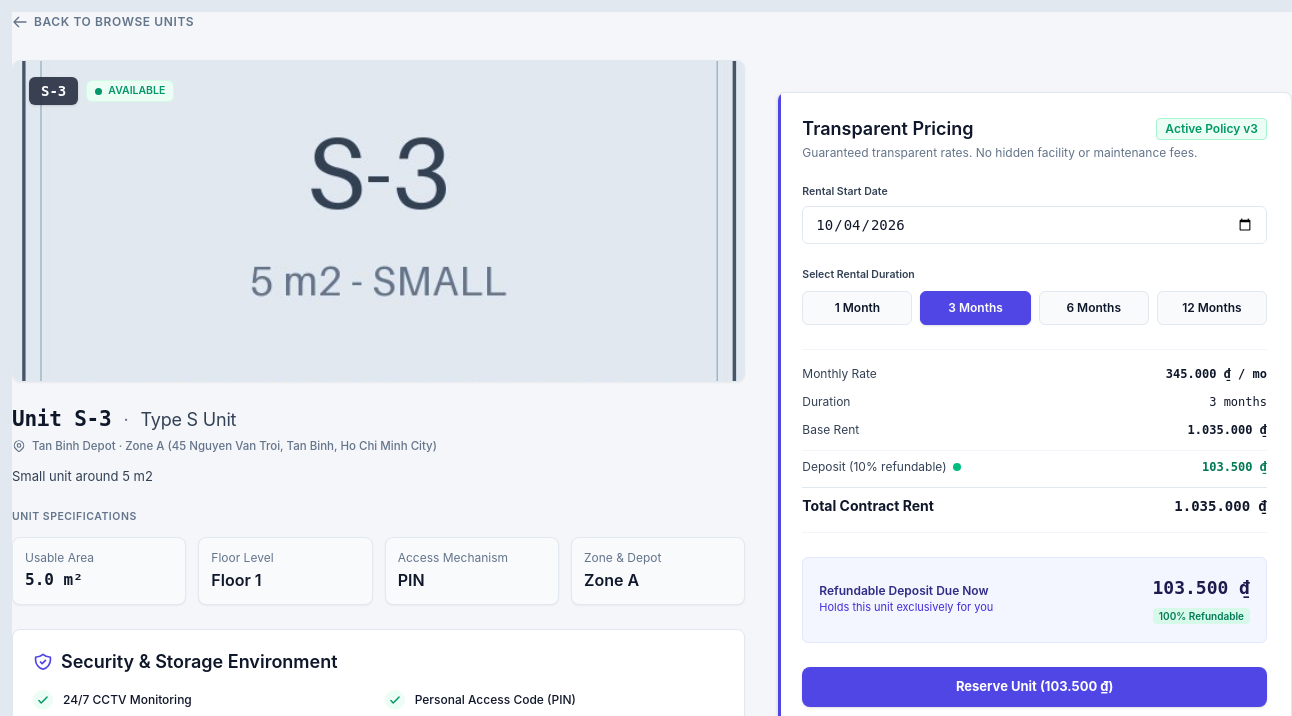
Test: Story 2.1: Unit Detail & Pricing Breakdown › UnitDetailPage Component Rendering › dynamically recalculates pricing breakdown when duration selector is changed
# Click 1 Month pill
Click the button with test id "duration-option-1". click: (857, 308)
box: x1=802 y1=291 x2=912 y2=325
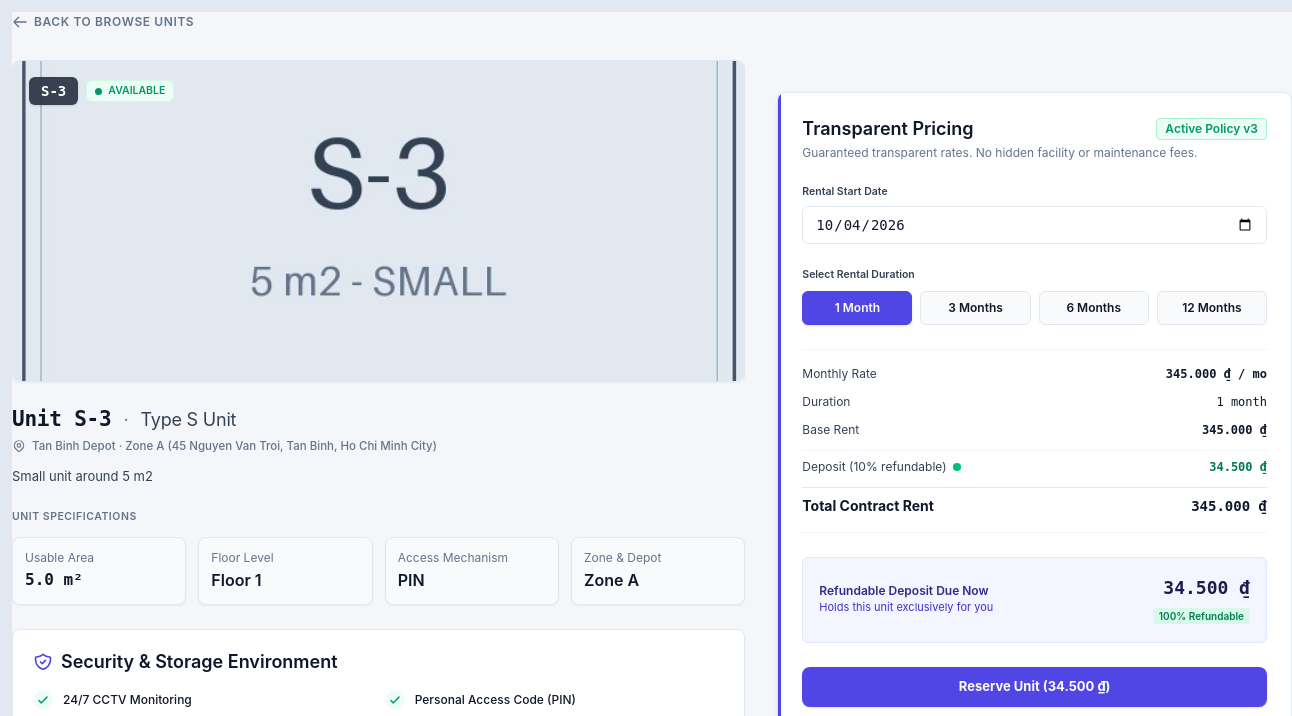
Check: the text with test id "duration-display" reads "1 month", box x1=1216 y1=394 x2=1267 y2=410
Check: the text with test id "base-rent-display" reads "345.000 ₫", box x1=1202 y1=423 x2=1267 y2=437
Check: the text with test id "deposit-amount-display" reads "34.500 ₫", box x1=1209 y1=460 x2=1267 y2=474
# Click 6 Months pill
Click the button with test id "duration-option-6". click: (1094, 308)
box: x1=1039 y1=291 x2=1149 y2=325
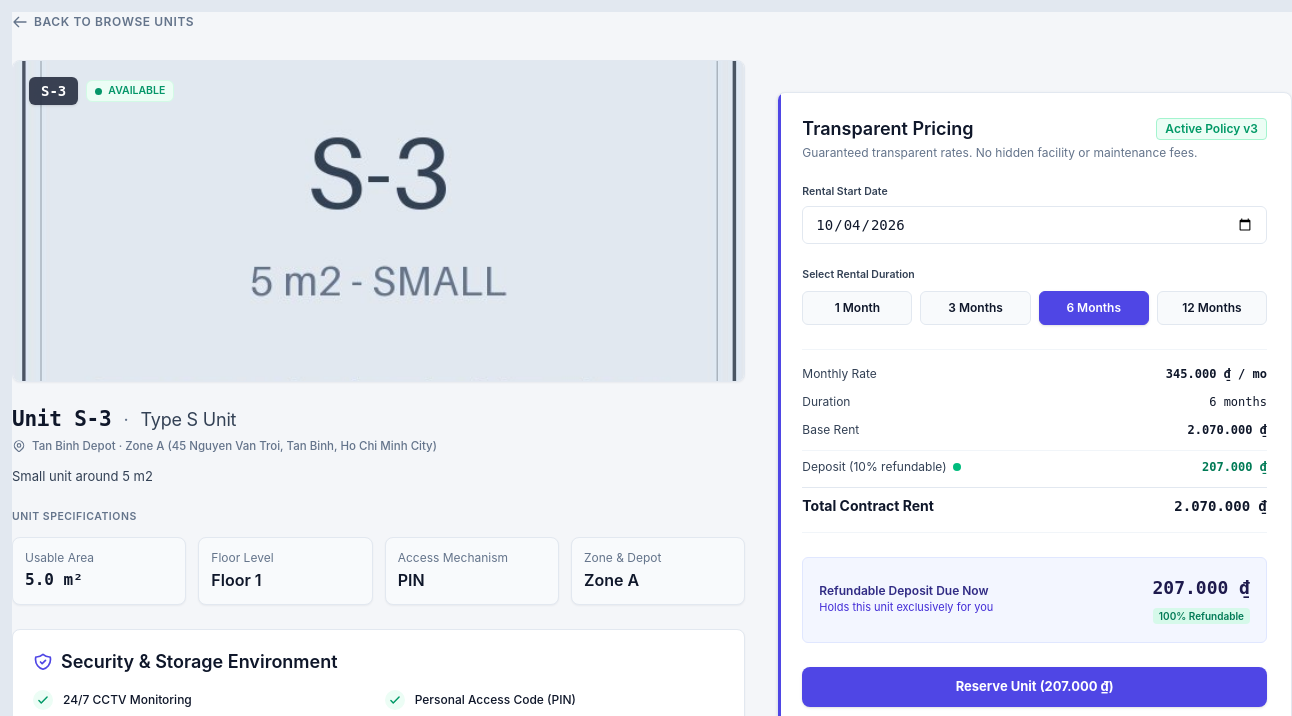
Check: the text with test id "duration-display" reads "6 months", box x1=1209 y1=394 x2=1267 y2=410
Check: the text with test id "base-rent-display" reads "2.070.000 ₫", box x1=1188 y1=423 x2=1267 y2=437
Check: the text with test id "deposit-amount-display" reads "207.000 ₫", box x1=1202 y1=460 x2=1267 y2=474
